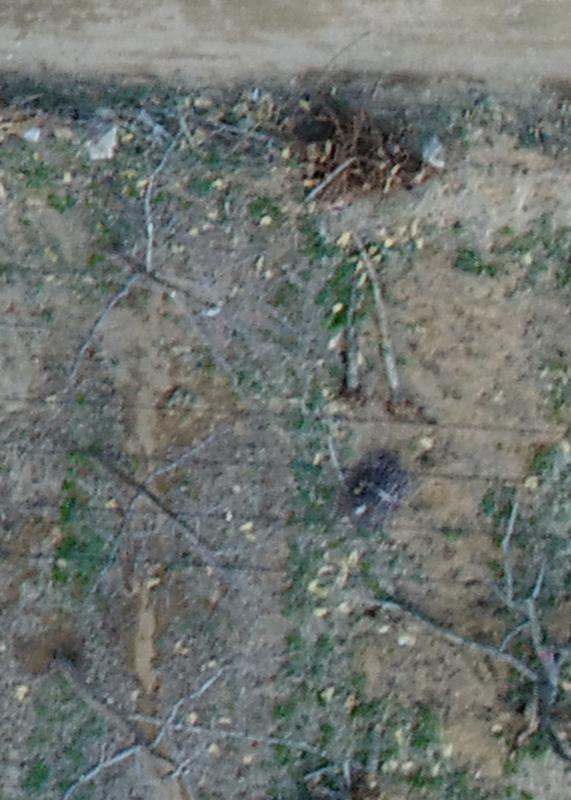apple: (19, 158, 266, 373), (29, 635, 297, 790), (29, 411, 257, 569)
